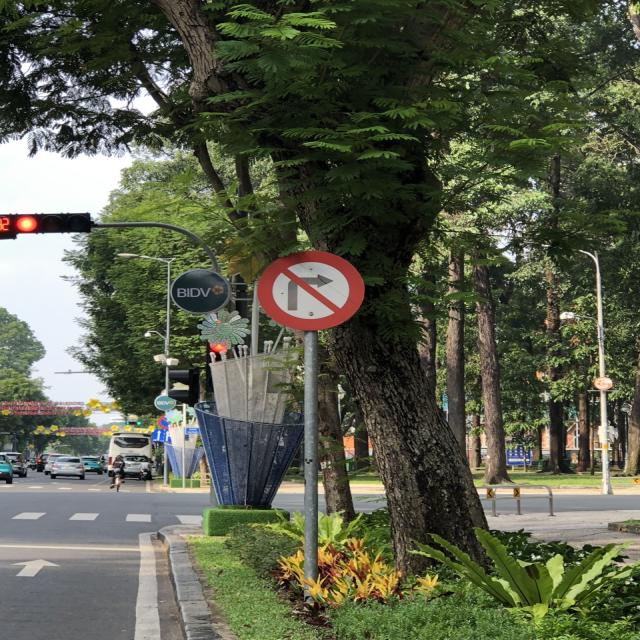Bien bao cam re phai: (238, 235, 381, 338)
